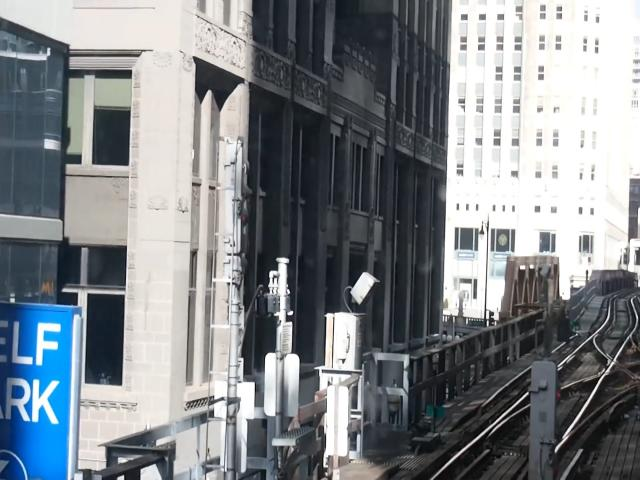signal light: (215, 133, 253, 293)
